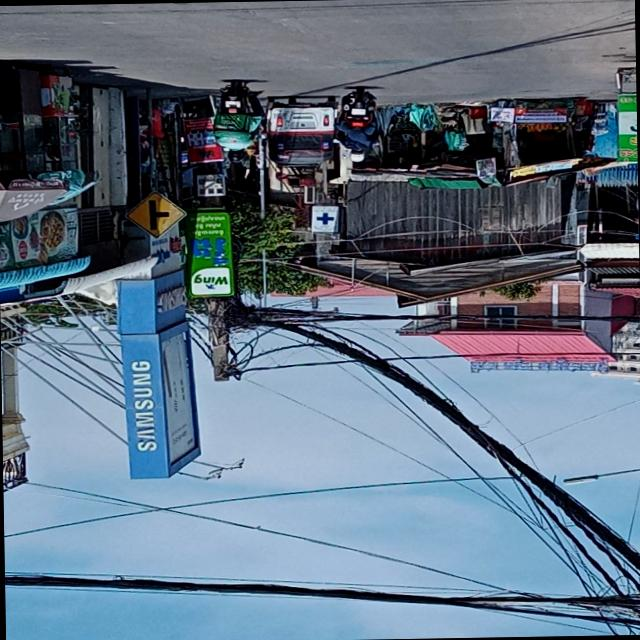Yolov11_80vkh: (190, 232, 232, 267)
